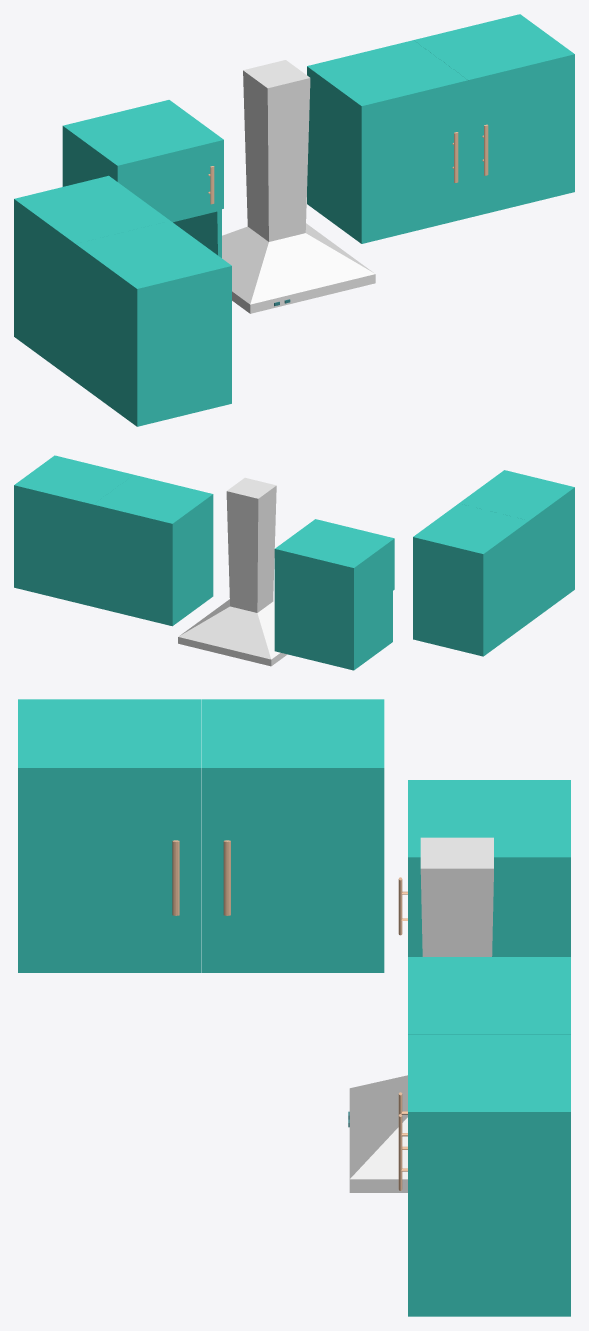
File: exhaust-fan-and-drawers.fbx
3 renders of one model, top to bottom at view 1: azimuth 30°, elevation 25°; view 2: azimuth 150°, elevation 25°; view 3: azimuth 270°, elevation 25°, orthographic. The views are drawn at different scales.
Parts seen in each view (by area): view 1: Cube.008, Cube.030, Cube.009, Cube.016, Cube.005, Cube.029, Cube.027, Cube.022, Cube.028, Cube.003; view 2: Cube.029, Cube.027, Cube.005, Cube.028, Cube.030, Cube.008, Cube.012, Cube.009; view 3: Cube.028, Cube.012, Cube.003, Cube.027, Cube.030, Cube.005, Cube.008, Cube.029, Cube.016, Cube.022.
Part boxes in pixels (x1=…): Cube.008: x1=75, y1=221, x2=228, y2=426; Cube.030: x1=222, y1=60, x2=375, y2=313; Cube.009: x1=359, y1=79, x2=468, y2=243; Cube.016: x1=466, y1=52, x2=574, y2=217; Cube.005: x1=14, y1=176, x2=166, y2=381; Cube.029: x1=307, y1=40, x2=465, y2=242; Cube.027: x1=62, y1=100, x2=221, y2=257; Cube.022: x1=115, y1=138, x2=223, y2=221; Cube.028: x1=414, y1=14, x2=572, y2=78; Cube.003: x1=167, y1=221, x2=231, y2=404; Cube.029: x1=93, y1=476, x2=211, y2=626; Cube.027: x1=274, y1=520, x2=392, y2=670; Cube.005: x1=415, y1=504, x2=529, y2=656; Cube.028: x1=14, y1=456, x2=131, y2=606; Cube.030: x1=178, y1=477, x2=287, y2=666; Cube.008: x1=461, y1=470, x2=574, y2=622; Cube.012: x1=413, y1=503, x2=460, y2=639; Cube.009: x1=133, y1=475, x2=213, y2=597; Cube.028: x1=414, y1=1034, x2=570, y2=1316; Cube.012: x1=201, y1=765, x2=384, y2=972; Cube.003: x1=18, y1=765, x2=200, y2=972; Cube.027: x1=414, y1=780, x2=570, y2=956; Cube.030: x1=348, y1=837, x2=493, y2=1192; Cube.005: x1=201, y1=699, x2=384, y2=765; Cube.008: x1=18, y1=699, x2=200, y2=765; Cube.029: x1=414, y1=957, x2=570, y2=1034; Cube.016: x1=398, y1=1034, x2=415, y2=1316; Cube.022: x1=398, y1=780, x2=415, y2=956.
Size of the model in its own units: 1034 by 348 by 586.
